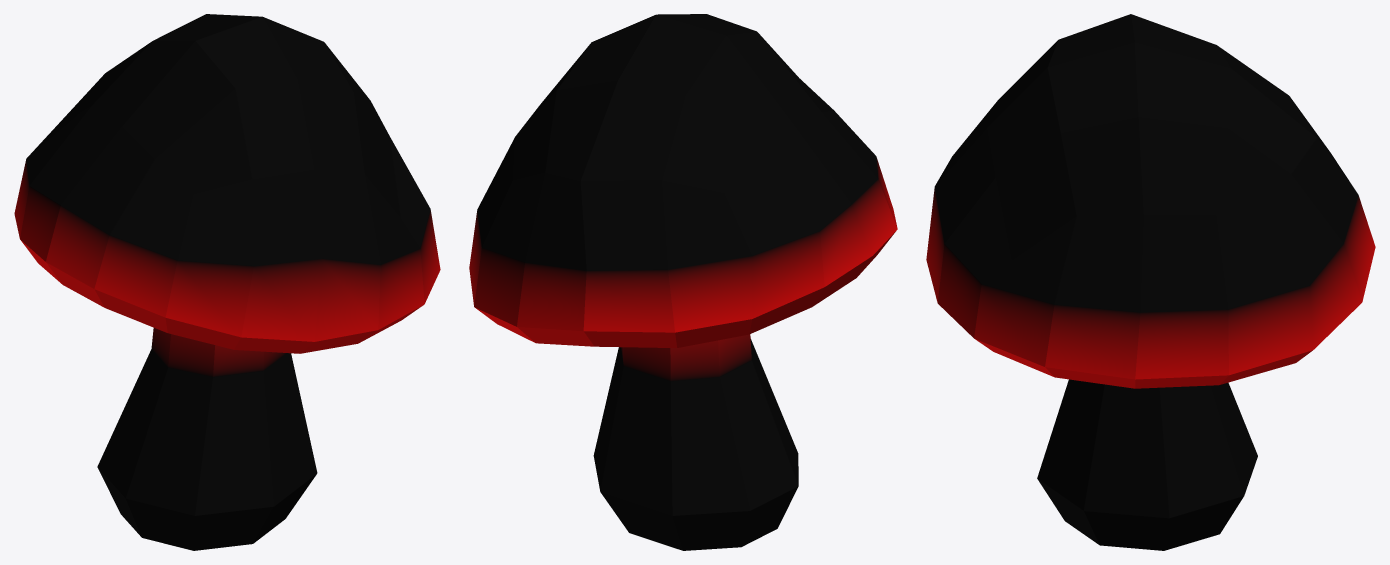
The model's file is SM_Mushroom_05.fbx.
3 renders of one model, left to right at view 1: azimuth 30°, elevation 25°; view 2: azimuth 150°, elevation 25°; view 3: azimuth 270°, elevation 25°, orthographic. The views are drawn at different scales.
Parts seen in each view (by area): view 1: SM_Mushroom_05; view 2: SM_Mushroom_05; view 3: SM_Mushroom_05.
Boxes of the visible parts, x1,y1,x2,y2 form: SM_Mushroom_05: (14,14,440,550); SM_Mushroom_05: (469,14,897,550); SM_Mushroom_05: (926,14,1375,550).
Size of the model in its own units: 22.93 by 23.55 by 28.96.
